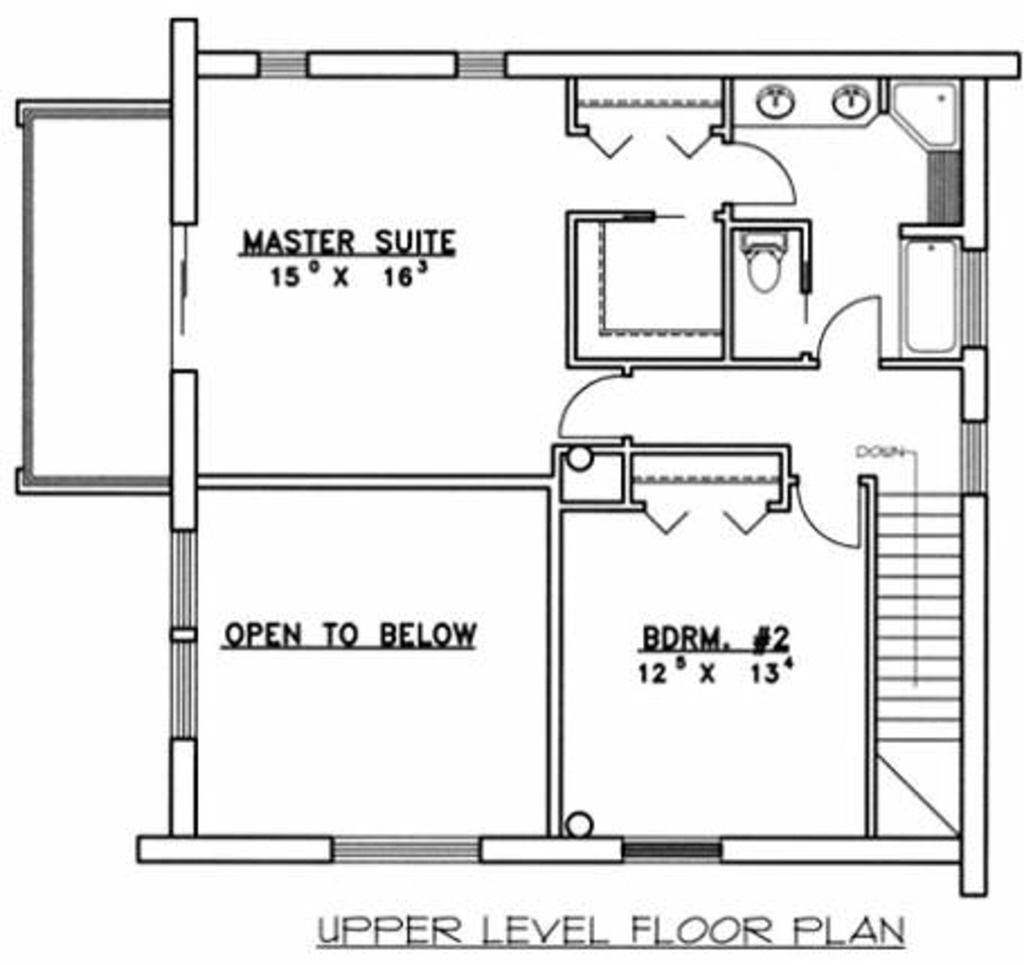door: (812, 283, 899, 370), (548, 365, 638, 438), (794, 468, 866, 556), (724, 132, 808, 207)
large_sink: (730, 222, 803, 299)
small_sink: (727, 73, 887, 128)
stairs: (860, 464, 975, 837)
tub: (902, 225, 967, 361)
window: (160, 520, 205, 738), (323, 822, 490, 871), (626, 820, 721, 868)
